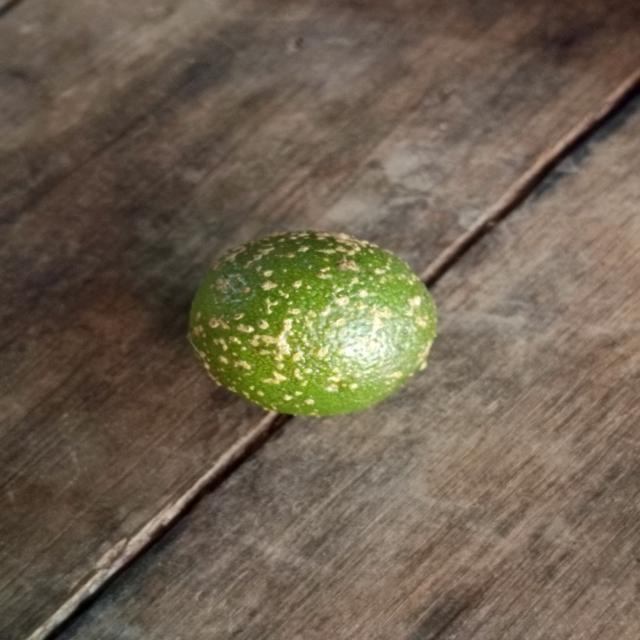scab: (184, 227, 440, 418)
